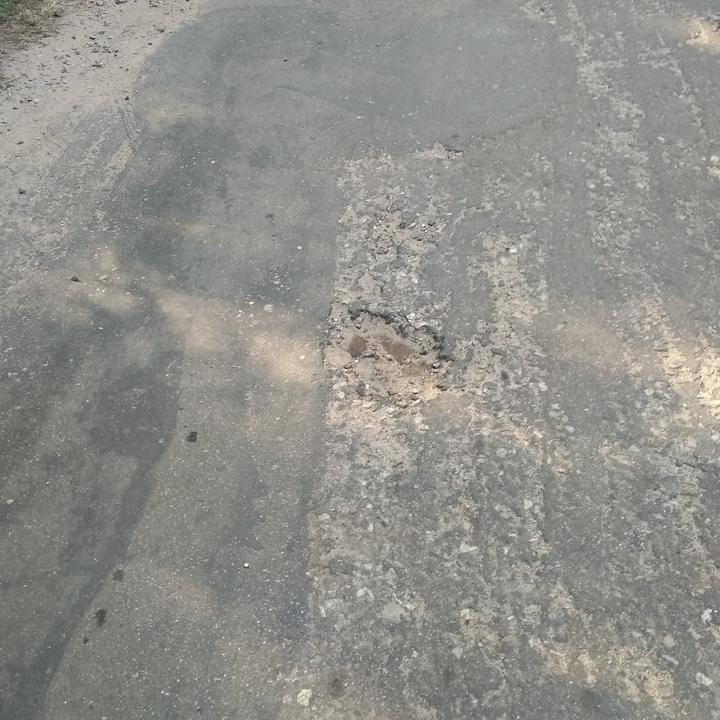pothole: (317, 297, 464, 415)
